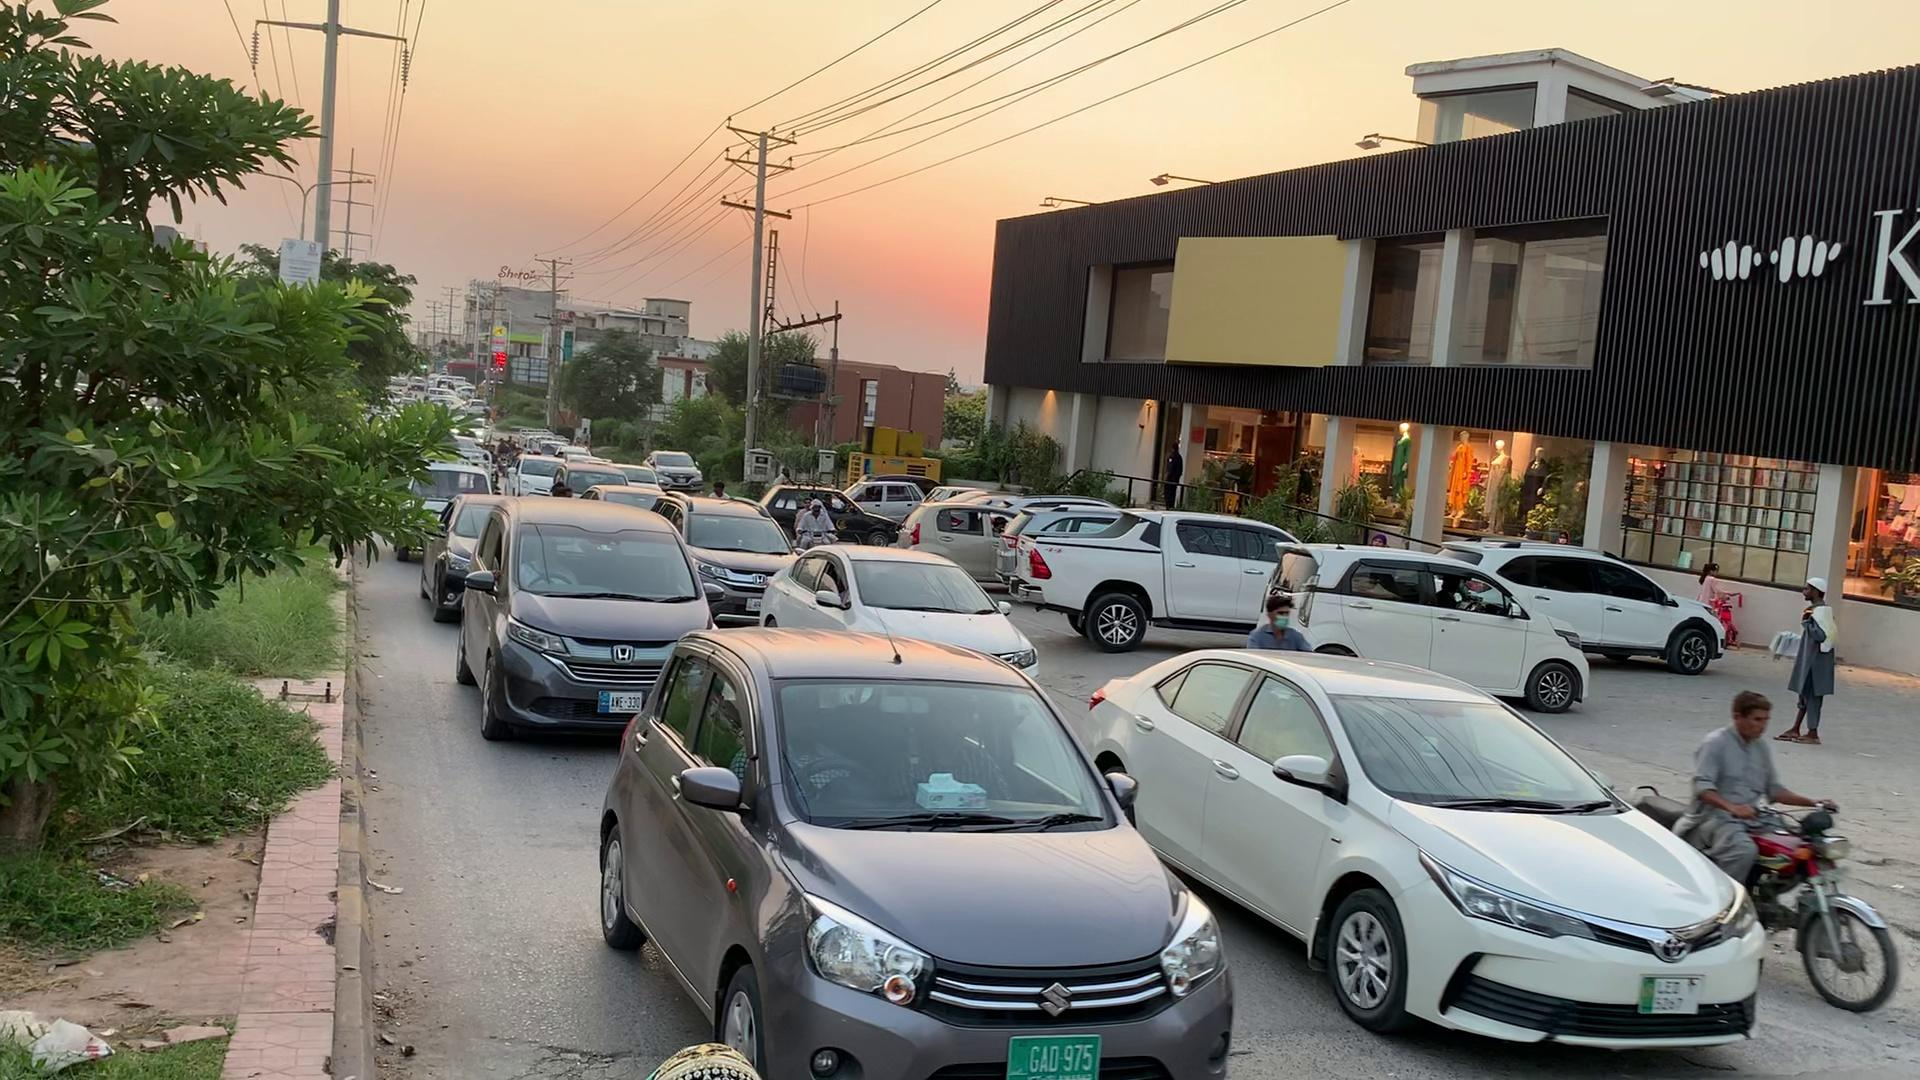windshield: (770, 676, 1114, 823), (1321, 690, 1623, 810), (514, 520, 707, 600)
